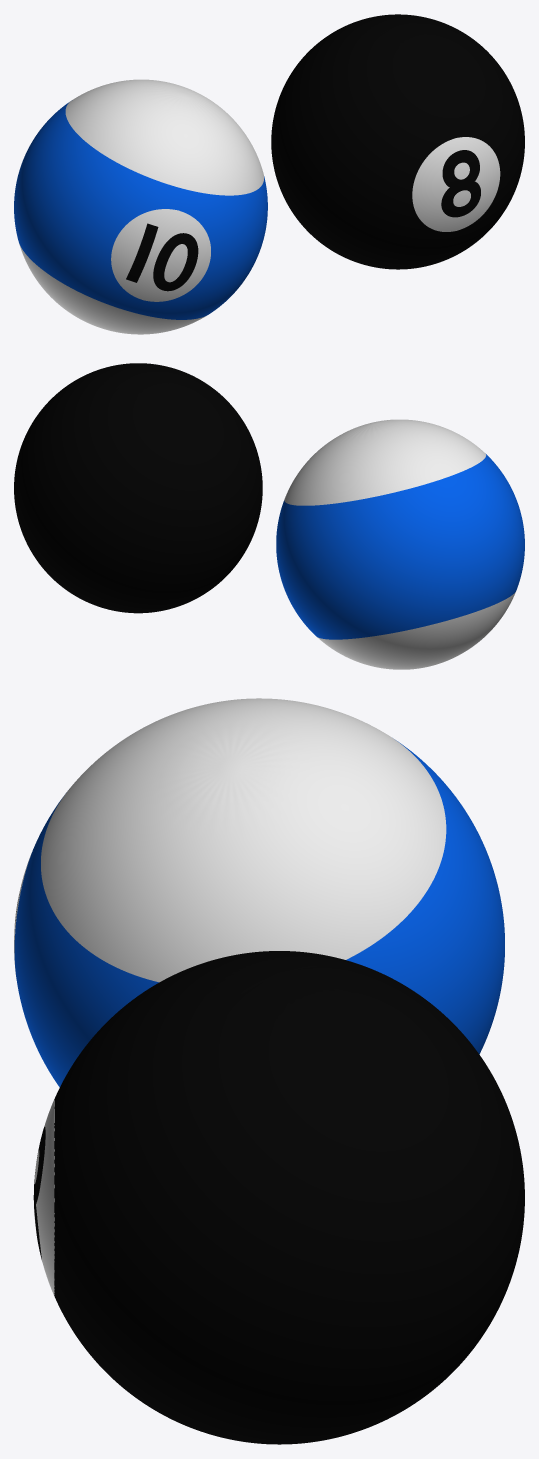
Rendered from billiards_ball_new.glb.
3 views of the same model, one above another, from view 1: azimuth 30°, elevation 25°; view 2: azimuth 150°, elevation 25°; view 3: azimuth 270°, elevation 25° (orthographic). The views are drawn at different scales.
Parts seen in each view (by area): view 1: Sphere.002, Sphere, Sphere.001, Sphere.003, Text, Text.001; view 2: Sphere, Sphere.002; view 3: Sphere.002, Sphere, Sphere.003.
Boxes of the visible parts, x1,y1,x2,y2 form: Sphere.002: [271, 14, 524, 269]; Sphere: [14, 79, 267, 334]; Sphere.001: [111, 209, 210, 301]; Sphere.003: [412, 137, 500, 231]; Text: [126, 223, 198, 291]; Text.001: [441, 150, 480, 217]; Sphere: [276, 419, 524, 669]; Sphere.002: [14, 363, 262, 613]; Sphere.002: [54, 951, 524, 1444]; Sphere: [14, 698, 504, 1087]; Sphere.003: [34, 1099, 54, 1295].
Bounding box in the file's own units: 4.33 × 2.01 × 2.06.
